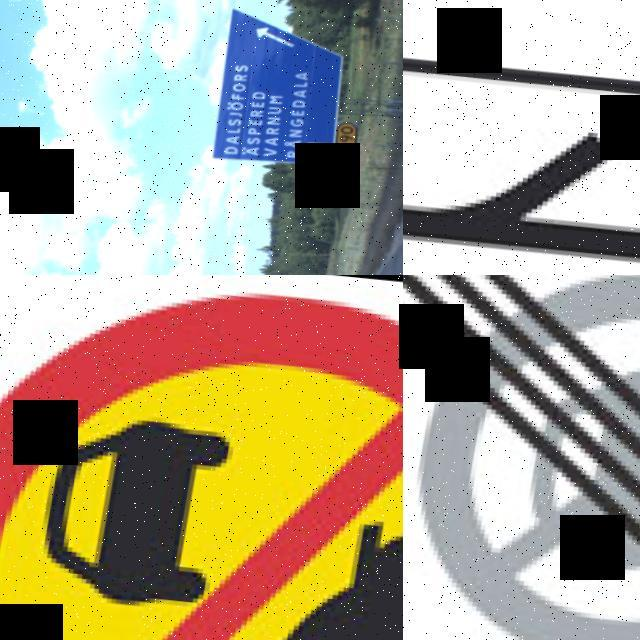111: (403, 275, 640, 640)
125: (330, 119, 364, 170), (362, 124, 362, 127)
169: (403, 36, 640, 275)
3: (206, 5, 358, 173)
No entry for motor vehicles: (0, 275, 403, 640)
